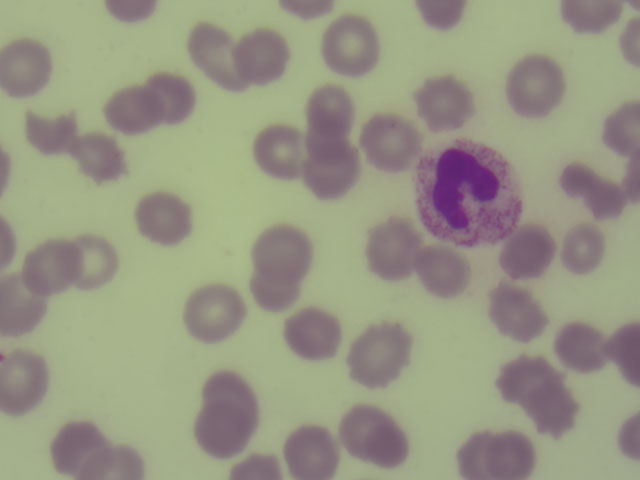RBC: (249, 218, 315, 280), (411, 242, 476, 302), (354, 321, 413, 386), (326, 15, 385, 79), (504, 54, 564, 116), (130, 189, 195, 246), (182, 289, 246, 344), (205, 372, 262, 431), (306, 141, 363, 199), (249, 126, 310, 180), (194, 25, 240, 93), (190, 400, 249, 453), (367, 217, 416, 278), (236, 30, 290, 85), (364, 117, 418, 172), (491, 285, 547, 338), (338, 401, 388, 458), (5, 352, 49, 415), (559, 318, 605, 377), (495, 355, 553, 401), (4, 41, 54, 93), (419, 81, 470, 131), (501, 227, 553, 276), (75, 236, 120, 292), (530, 381, 577, 434), (1, 274, 45, 329), (293, 429, 342, 478), (301, 119, 354, 164), (108, 82, 156, 131), (32, 237, 73, 294), (28, 109, 78, 155), (75, 134, 125, 180), (295, 309, 340, 357), (152, 72, 195, 121), (368, 421, 412, 468), (95, 444, 152, 480), (605, 322, 640, 380), (54, 424, 98, 469), (494, 434, 536, 480), (311, 85, 354, 129), (462, 426, 497, 480), (569, 224, 605, 276), (559, 3, 619, 32), (605, 106, 640, 155), (415, 2, 465, 34), (101, 3, 159, 26), (593, 177, 623, 219), (237, 455, 282, 480), (562, 163, 592, 199), (618, 22, 640, 68), (619, 413, 640, 460), (271, 2, 343, 15), (1, 216, 18, 264), (622, 162, 640, 204)
WBC: (415, 138, 522, 246)
